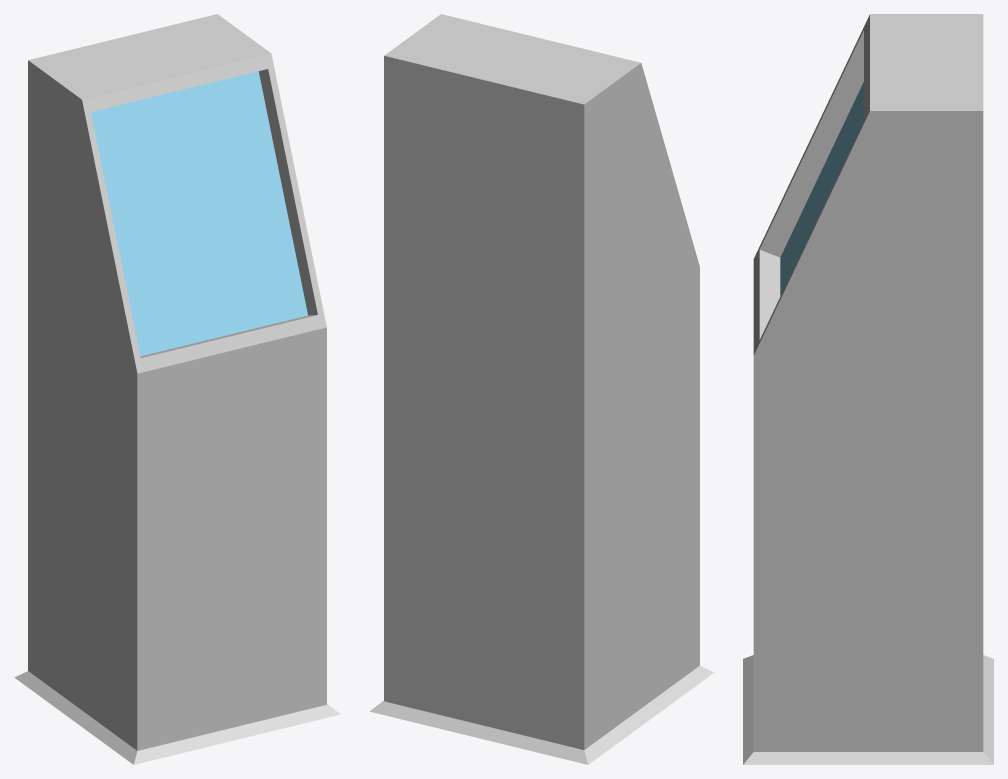
Rendered from console_bath.fbx.
3 views of the same model, side by side, from view 1: azimuth 30°, elevation 25°; view 2: azimuth 150°, elevation 25°; view 3: azimuth 270°, elevation 25° (orthographic). The views are drawn at different scales.
Visible parts, largest first — view 1: Cube.563, Cube.564; view 2: Cube.563; view 3: Cube.563, Cube.564.
Part boxes in pixels (x1,y1,x2,y2): Cube.563: [14, 14, 340, 764]; Cube.564: [91, 71, 307, 356]; Cube.563: [369, 14, 714, 764]; Cube.563: [743, 14, 993, 764]; Cube.564: [780, 82, 863, 295].
Bounding box in the file's own units: 2.19 × 6.24 × 2.19.
